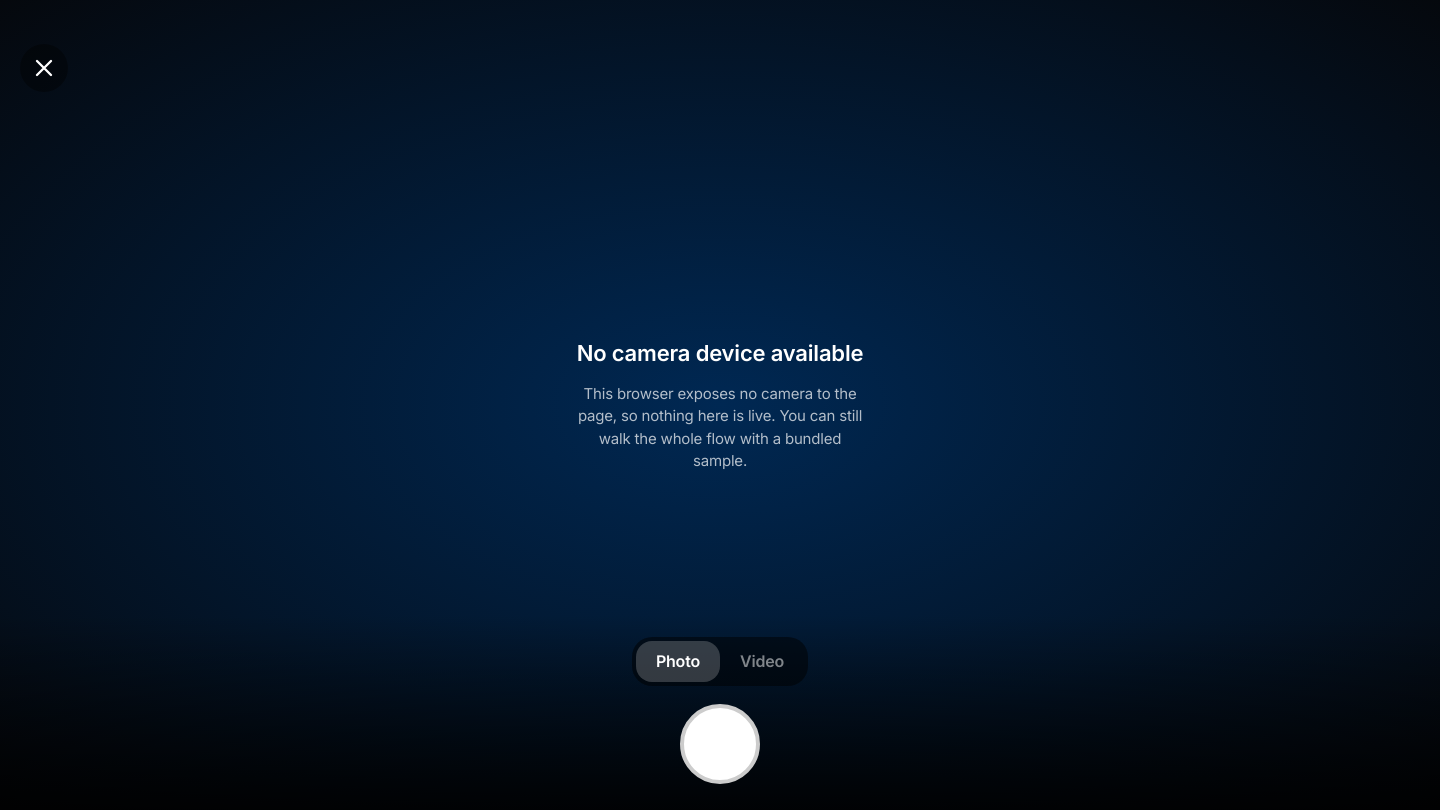
Test: no capture capability — the honest sample path › retake drops the capture and returns to the camera stage
The width and height of the screenshot is (1440, 810).
Click the button named "Attach sample photo" at (720, 744), box [680,704,760,784]
(page scrolled)
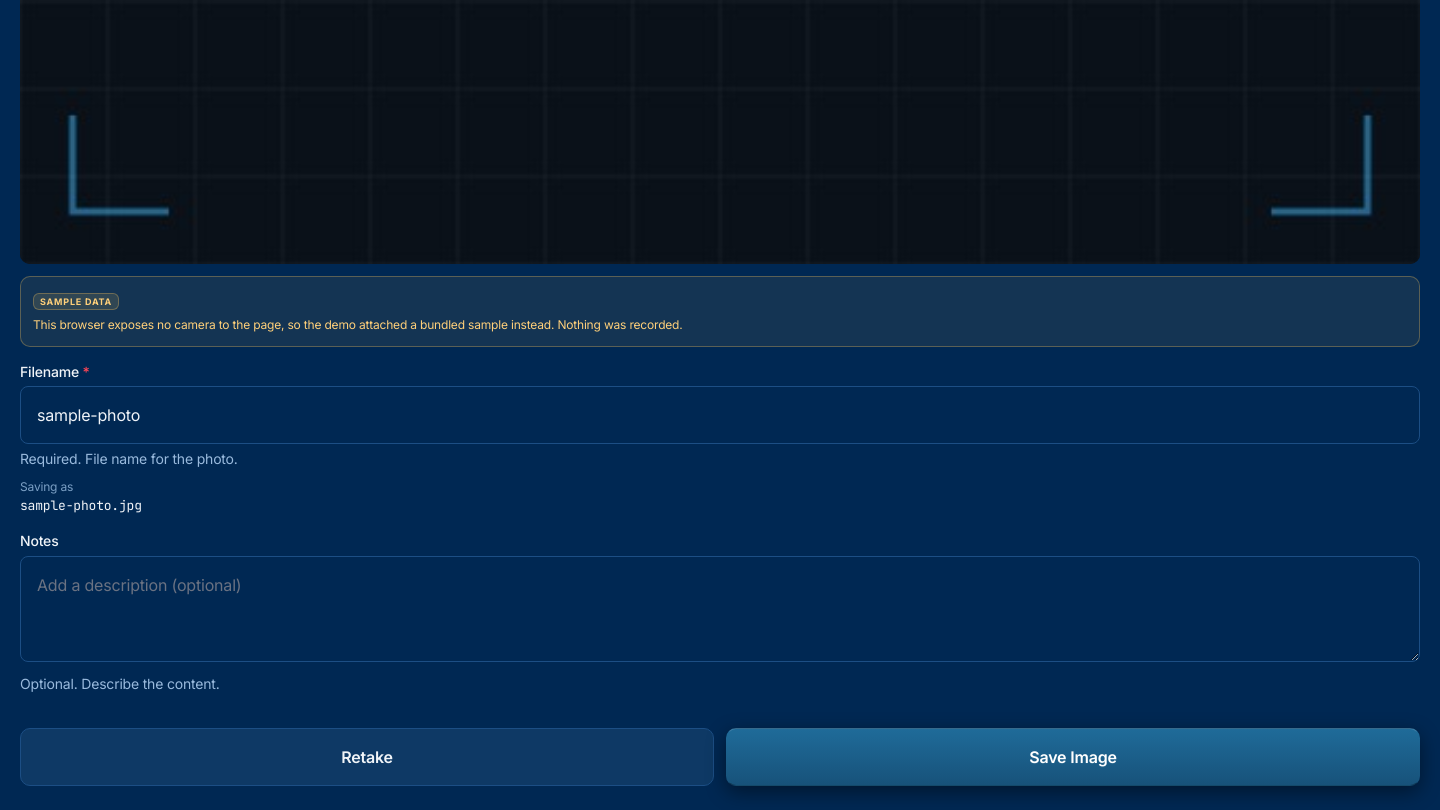
Click the button with aria-label "Retake image" at (367, 757), box [20,728,714,786]
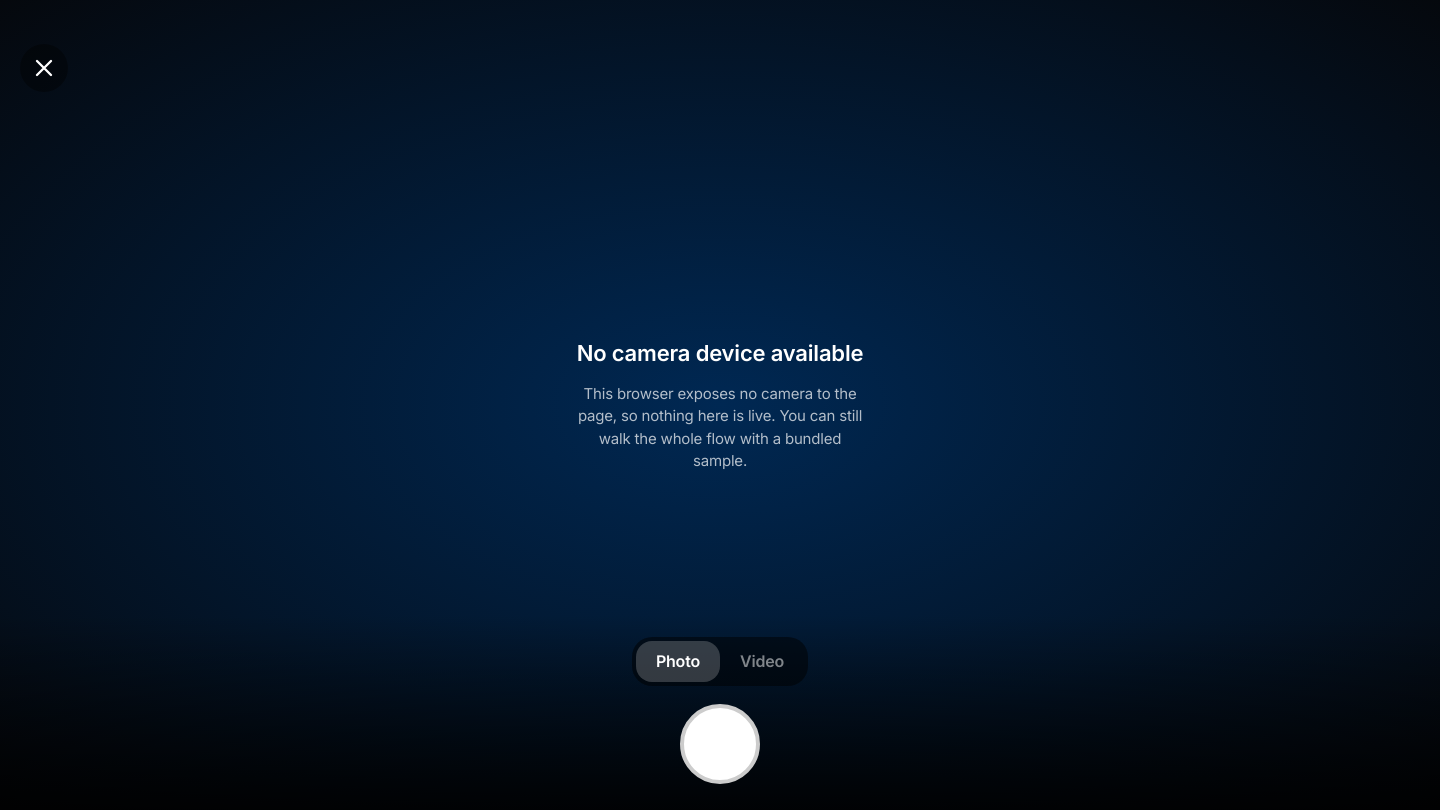
Result: the button named "Attach sample photo" is shown at [680,704,760,784]
